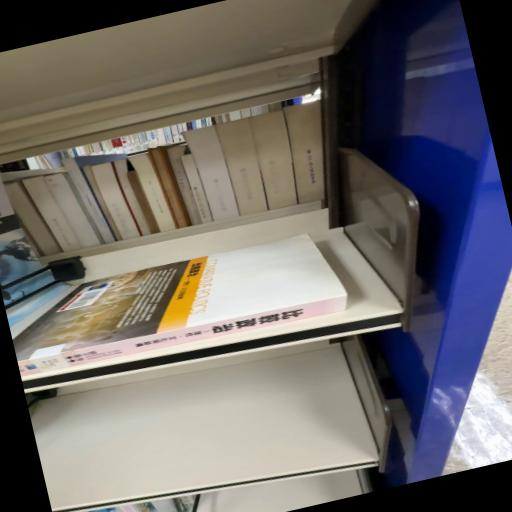flat: (14, 235, 349, 377)
